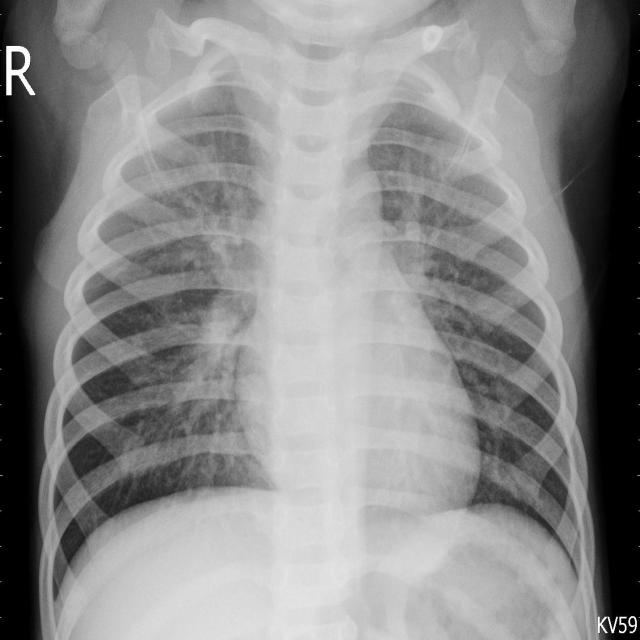low-pneumonia: (390, 152, 496, 357), (146, 294, 254, 487), (164, 154, 274, 292)
